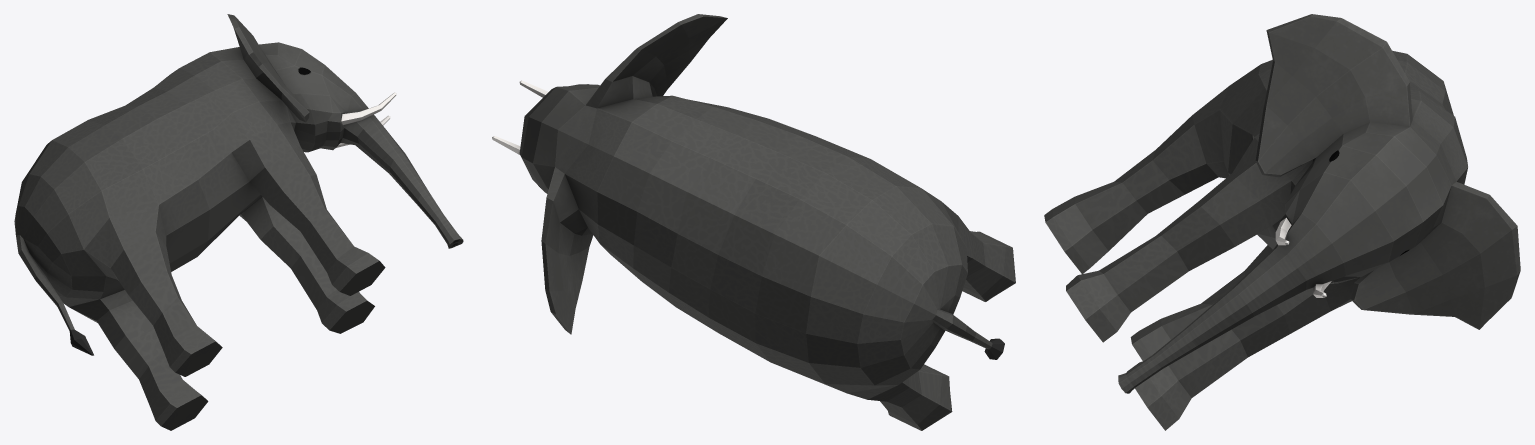
Rendered from elephant_candidate_01.glb.
3 renders of one model, left to right at view 1: azimuth 30°, elevation 25°; view 2: azimuth 150°, elevation 25°; view 3: azimuth 270°, elevation 25°, orthographic. The views are drawn at different scales.
Parts seen in each view (by area): view 1: Elephant_Mesh; view 2: Elephant_Mesh; view 3: Elephant_Mesh.
Part boxes in pixels (x1=…): Elephant_Mesh: x1=14, y1=14, x2=463, y2=430; Elephant_Mesh: x1=492, y1=14, x2=1015, y2=430; Elephant_Mesh: x1=1044, y1=14, x2=1520, y2=430.
Size of the model in its own units: 11.4 by 9.98 by 9.51.
Materials: 1 (1 with a texture image).
